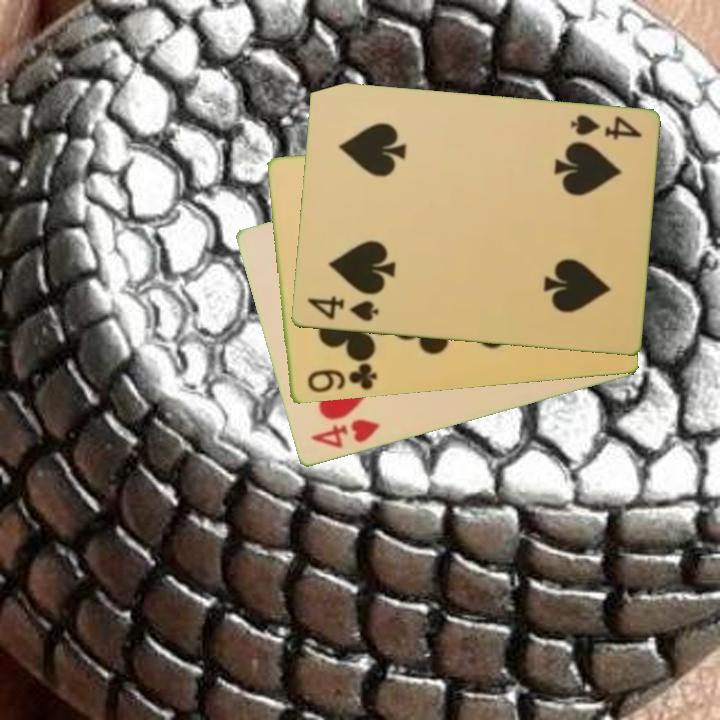4h: (307, 416, 383, 452)
4s: (566, 111, 644, 144), (303, 293, 381, 325)
9c: (303, 360, 380, 397)
